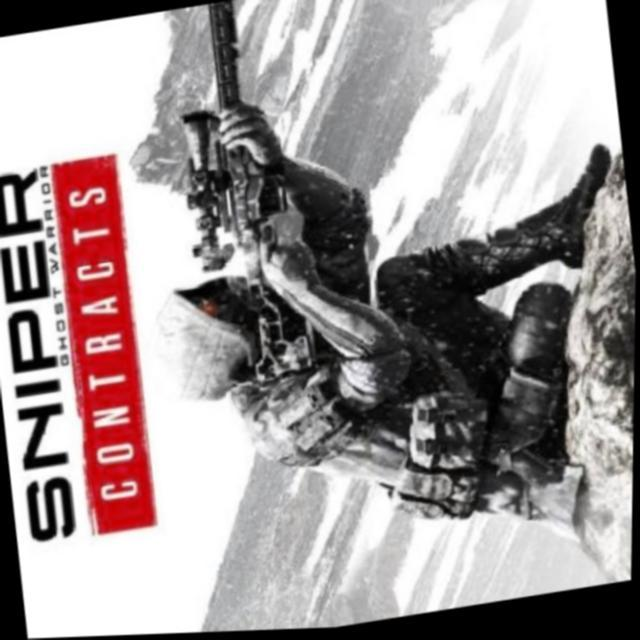weapon: (174, 0, 284, 284)
